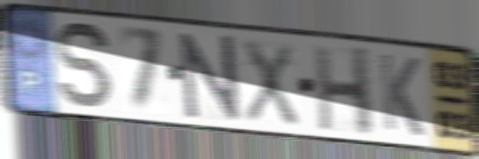7: (115, 22, 166, 116)
H: (311, 44, 376, 139)
K: (377, 50, 427, 140)
N: (177, 31, 243, 123)
S: (54, 18, 115, 113)
X: (240, 36, 301, 130)
